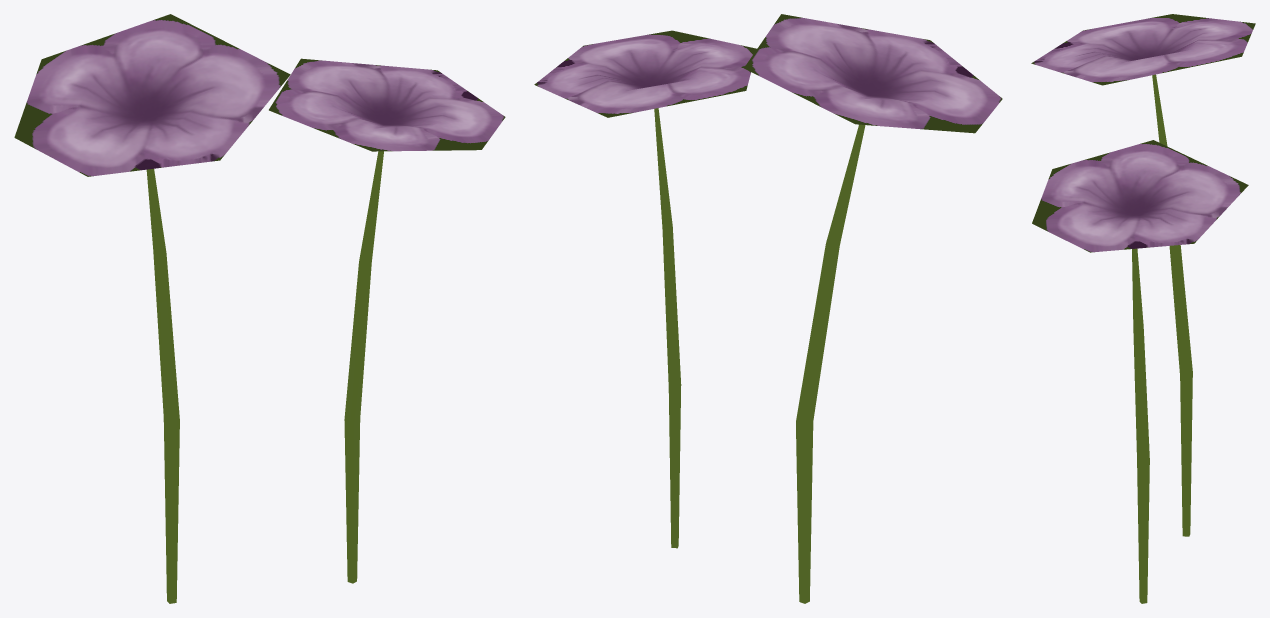
Rendered from flowers_01.fbx.
The picture shows the model from 3 angles, left to right: view 1: azimuth 30°, elevation 25°; view 2: azimuth 150°, elevation 25°; view 3: azimuth 270°, elevation 25°; orthographic projection. The views are drawn at different scales.
Parts seen in each view (by area): view 1: flowers_01; view 2: flowers_01; view 3: flowers_01.
Boxes of the visible parts, box(x1,y1,x2,y2) form: flowers_01: box(14, 14, 505, 603); flowers_01: box(534, 14, 1002, 603); flowers_01: box(1031, 14, 1255, 603).
Bounding box in the file's own units: 51.12 × 61.24 × 25.38.
